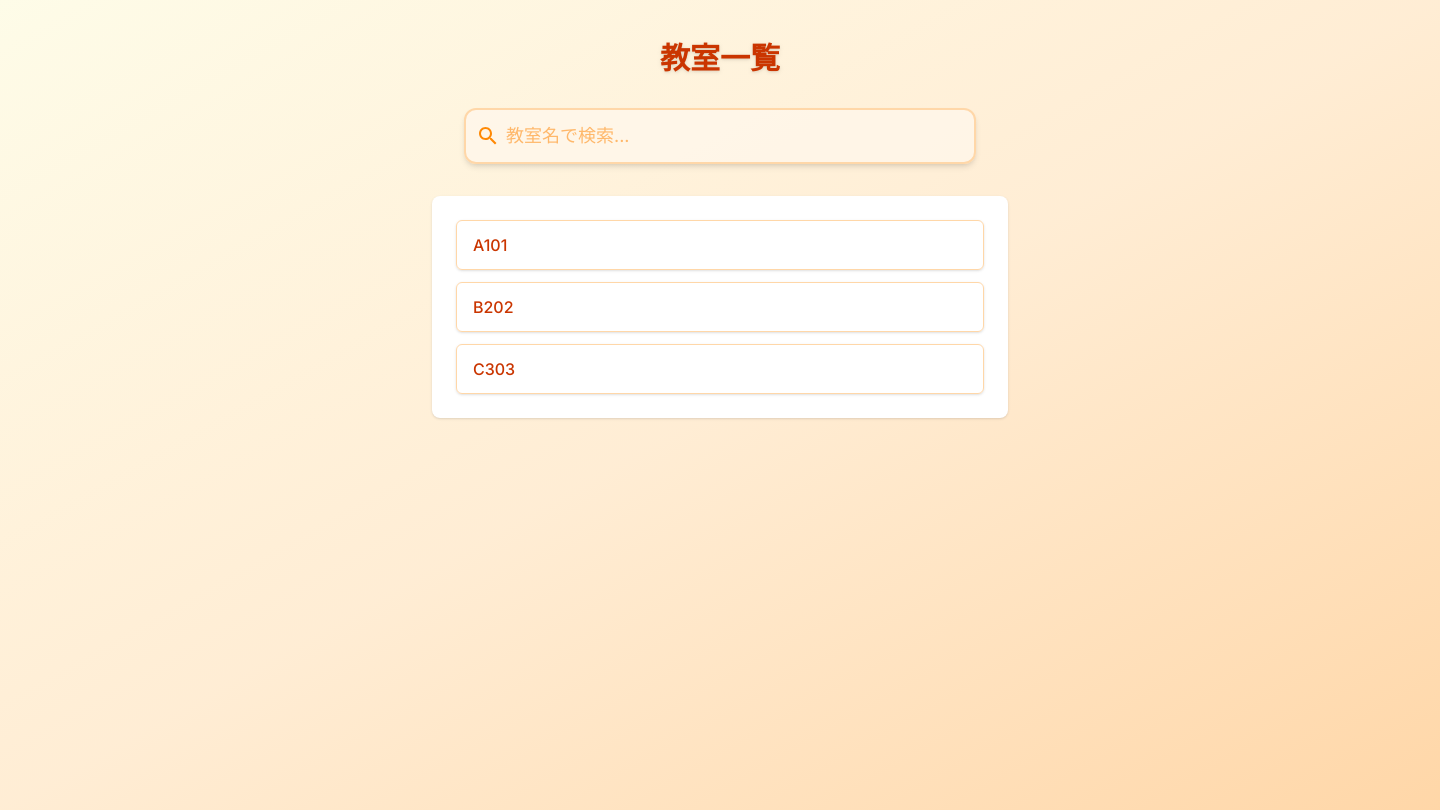
Scenario: Home page › shows not found message if no rooms match
Type "Z" into the field with placeholder "教室名で検索..." at (720, 136), box left=464, top=108, right=976, bottom=164
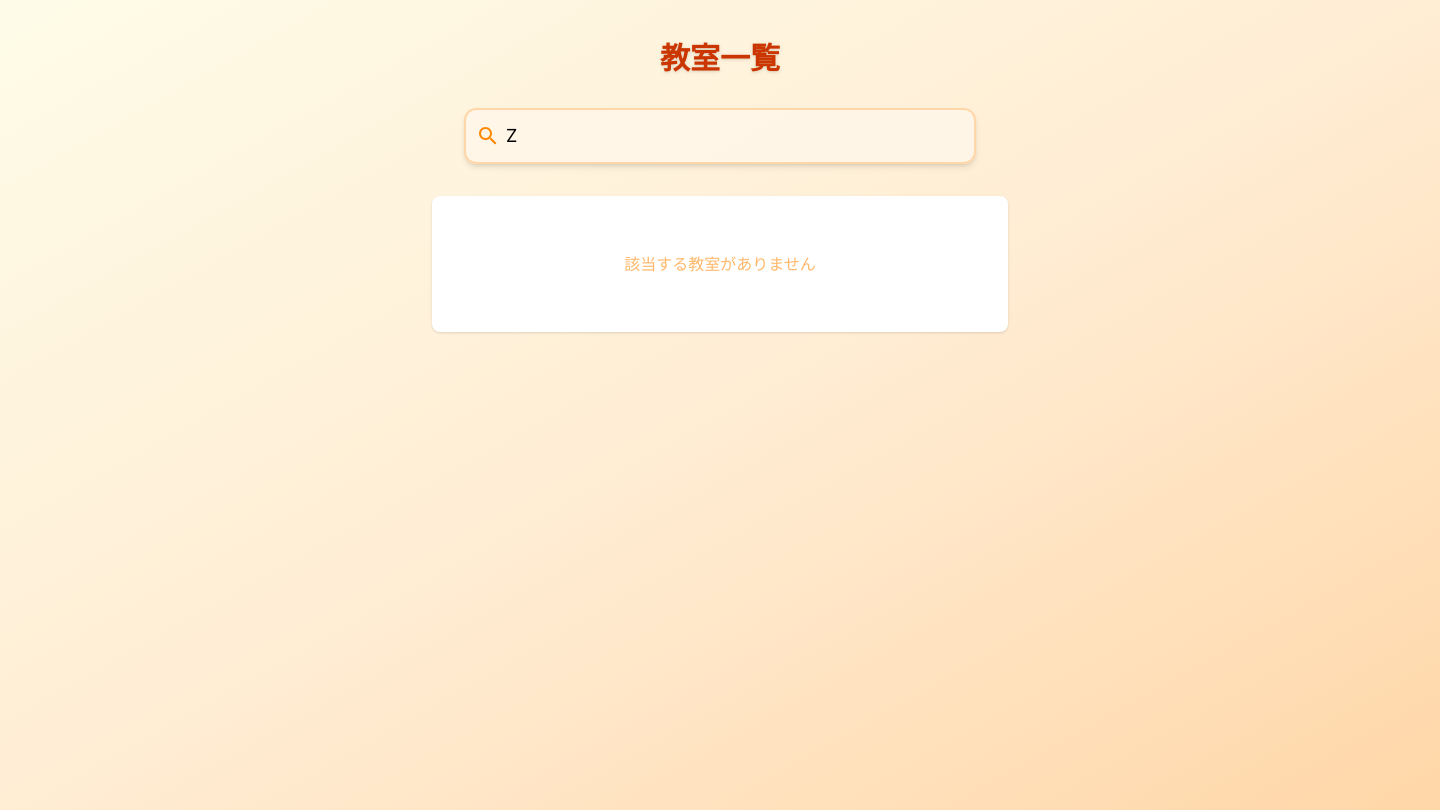
Check: the text "該当する教室がありません" is shown, box left=624, top=254, right=816, bottom=274
